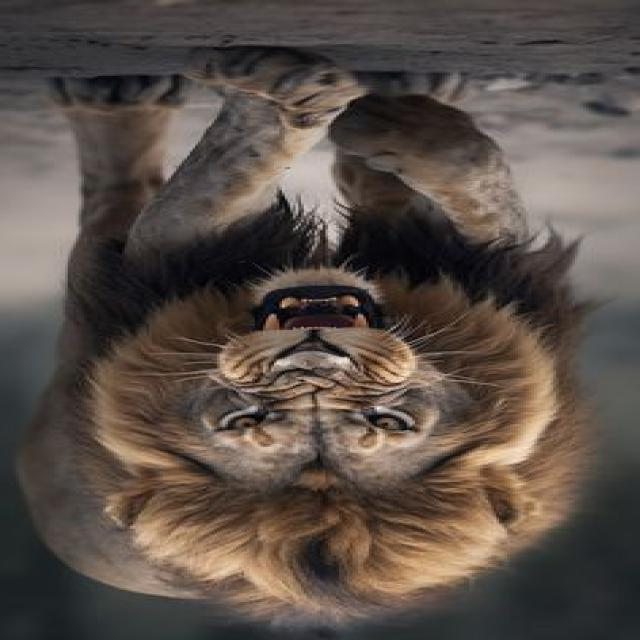lions: (13, 12, 640, 629)
